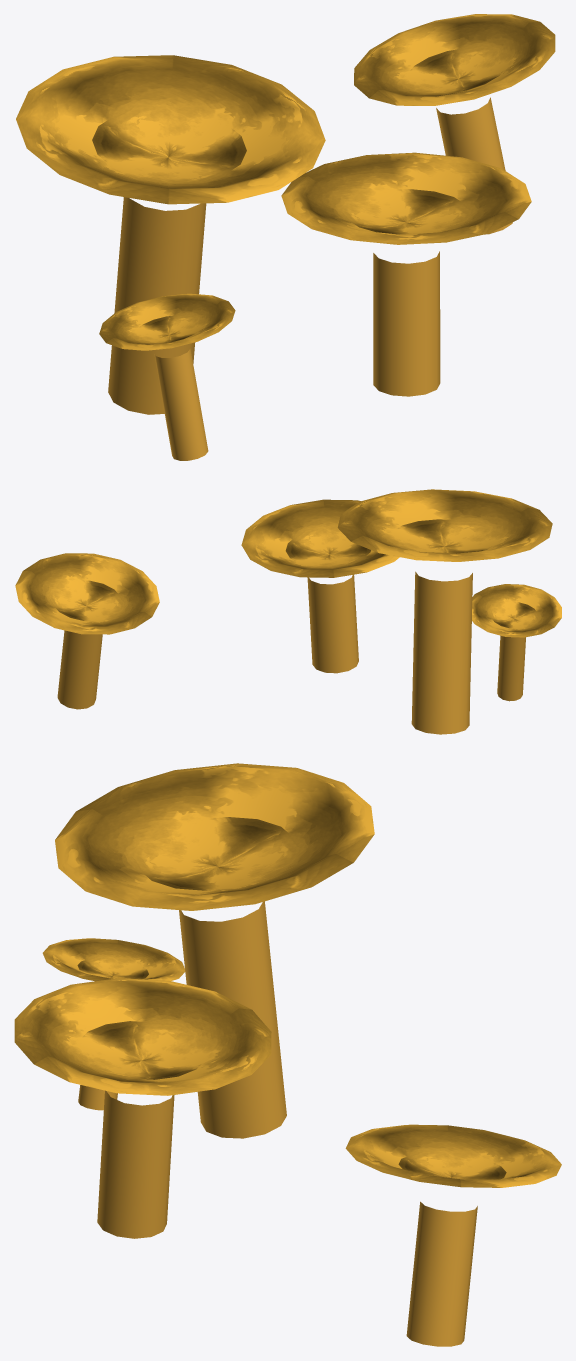
The model's file is chanterelle1.glb.
3 views of the same model, one above another, from view 1: azimuth 30°, elevation 25°; view 2: azimuth 150°, elevation 25°; view 3: azimuth 270°, elevation 25° (orthographic). The views are drawn at different scales.
Visible parts, largest first — view 1: chanterelle1_cap_LOD0, chanterelle1_stem_LOD0; view 2: chanterelle1_cap_LOD0, chanterelle1_stem_LOD0; view 3: chanterelle1_cap_LOD0, chanterelle1_stem_LOD0.
Part boxes in pixels (x1,y1,x2,y2): chanterelle1_cap_LOD0: (16,14,555,350); chanterelle1_stem_LOD0: (108,97,512,460); chanterelle1_cap_LOD0: (15,489,561,637); chanterelle1_stem_LOD0: (57,571,525,734); chanterelle1_cap_LOD0: (14,763,561,1187); chanterelle1_stem_LOD0: (78,901,477,1346).
Size of what is drawn, in the model's own units: 0.2128 by 0.0962 by 0.1547.
3 materials, 1 textured.
